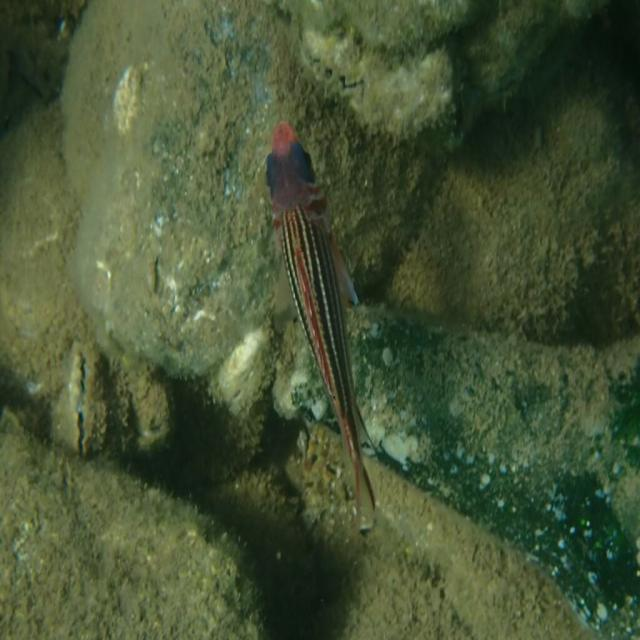Asker Baligi: (252, 96, 417, 547)
